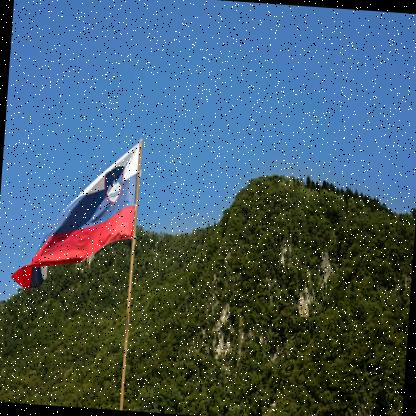si: (8, 136, 142, 299)
